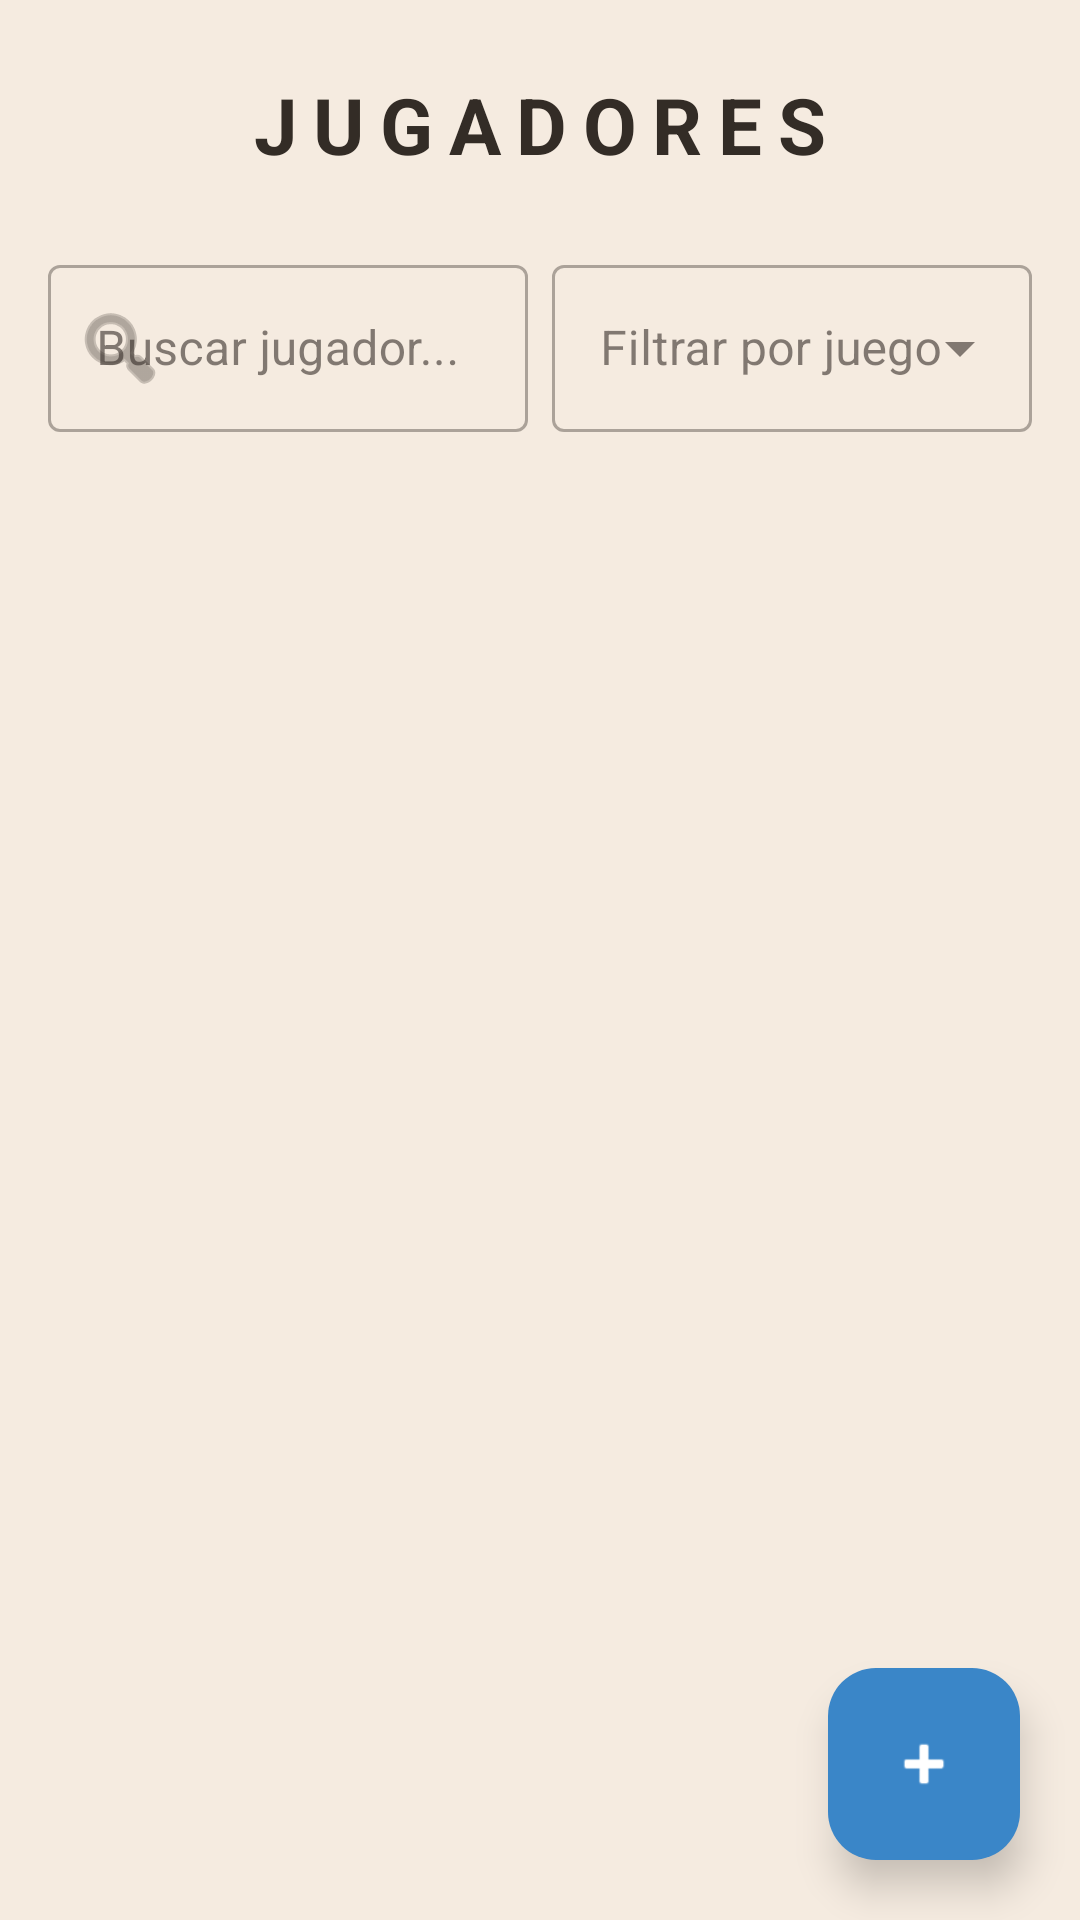

Where to tap for icons on this 1080x1920 app screen, as (x=x, y=y):
add: (x=924, y=1764)
